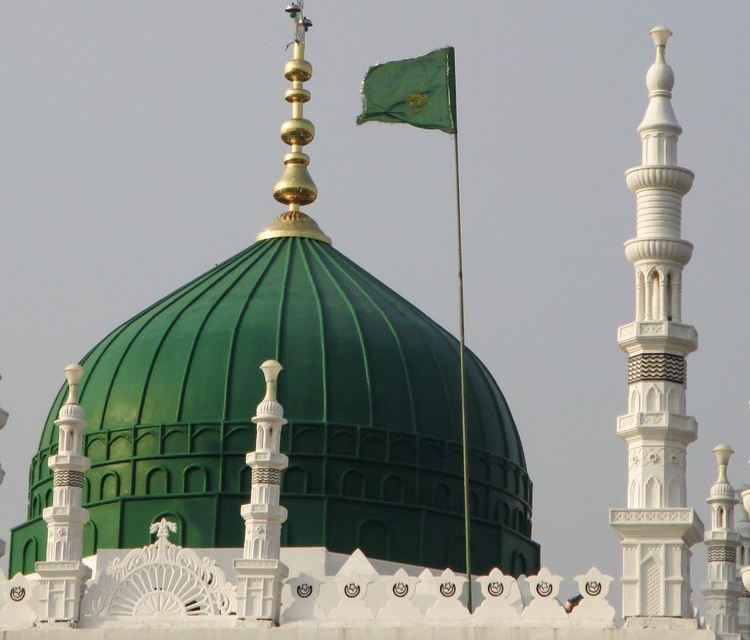Mosque: (5, 18, 742, 622)
